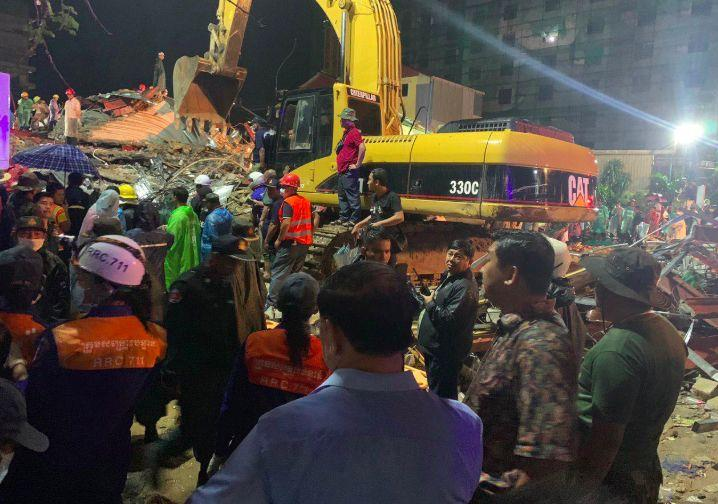helmet: (72, 234, 148, 287), (281, 173, 303, 192), (119, 185, 139, 203), (249, 173, 263, 189), (195, 173, 212, 186), (67, 87, 77, 97), (19, 92, 31, 99), (35, 96, 41, 105), (55, 94, 60, 102)
